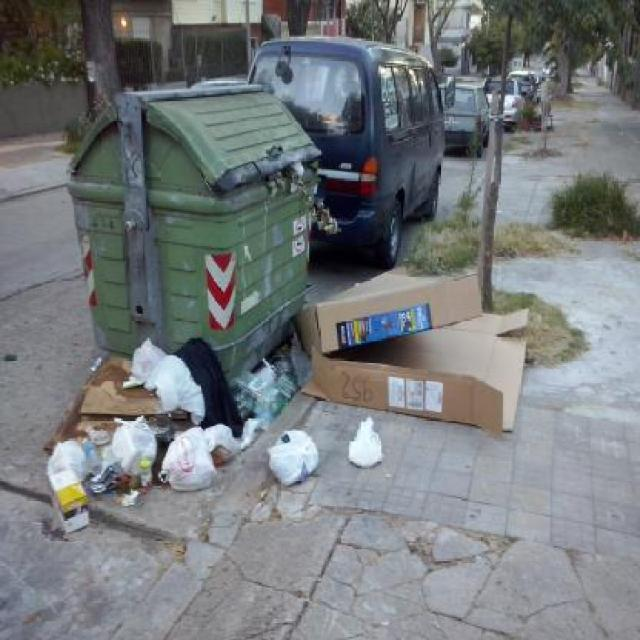garbage: (303, 288, 524, 432), (90, 339, 223, 496), (240, 376, 396, 490), (43, 438, 89, 536)
